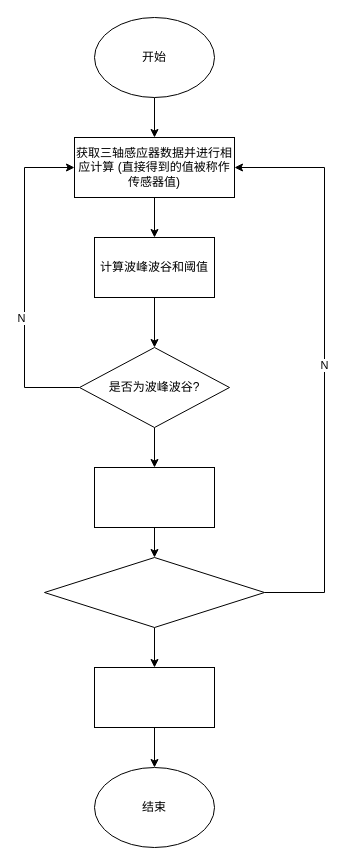
This 350x865 diagram has some shape labels left out. Here are the shapes that lost their labels. From the top down, the centre of each, then its label:
At point 154,497: "获取当前时间".
At point 154,592: "是否复合时间差以及阈值?".
At point 154,697: "步数加一".
